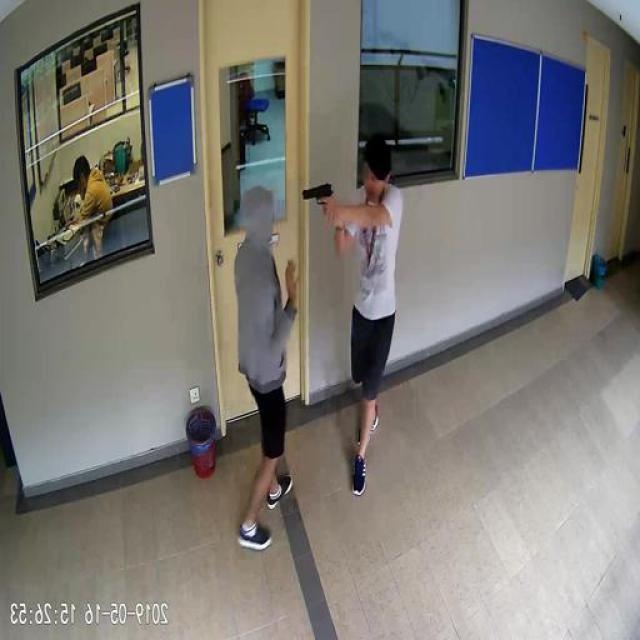Gun: (304, 180, 334, 218)
